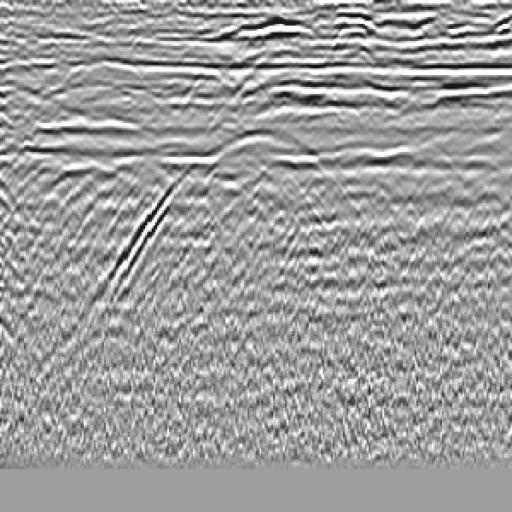non-metallic: (95, 129, 394, 348)
